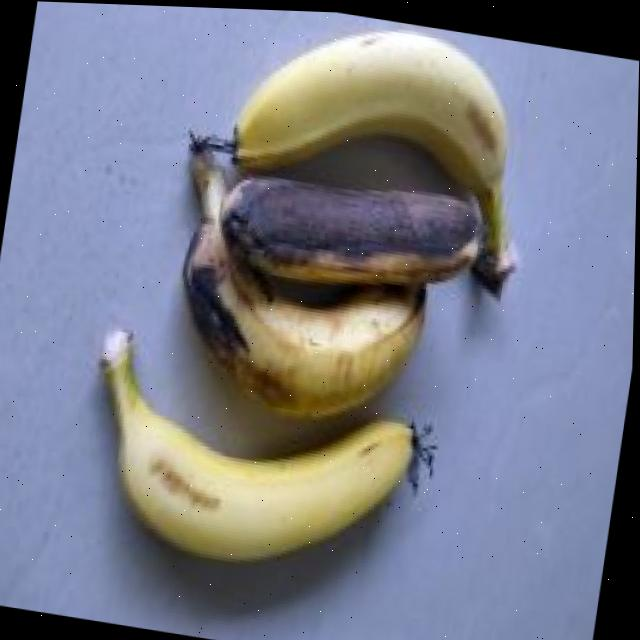Wet: (153, 121, 451, 433), (212, 151, 498, 305)
